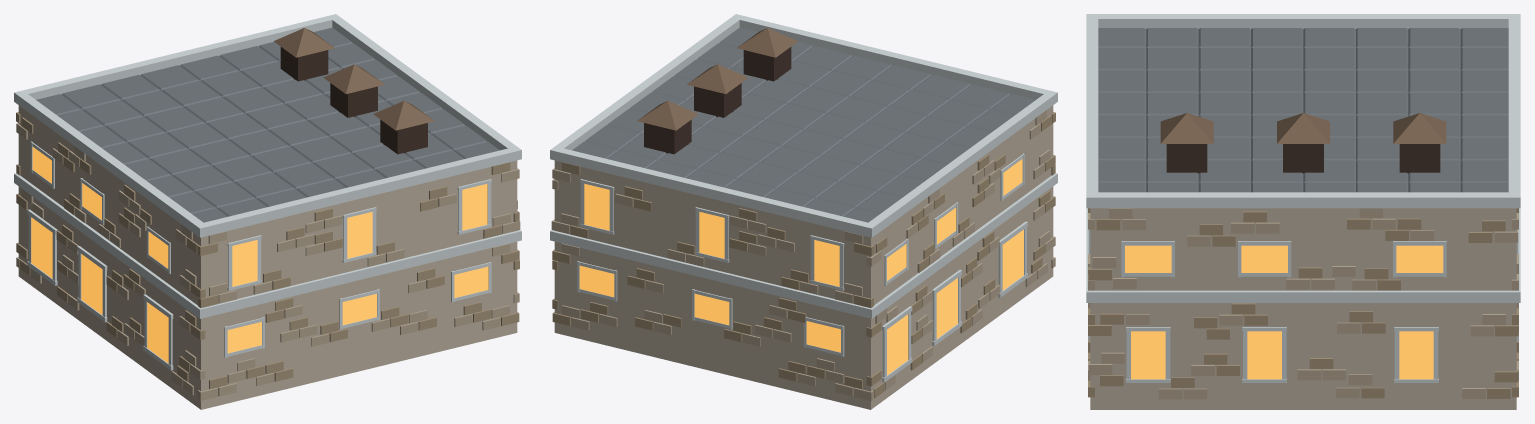
Rendered from SM_House_15_B.fbx.
3 renders of one model, left to right at view 1: azimuth 30°, elevation 25°; view 2: azimuth 150°, elevation 25°; view 3: azimuth 270°, elevation 25°, orthographic. The views are drawn at different scales.
Parts seen in each view (by area): view 1: SM_House_15_B_LOD0; view 2: SM_House_15_B_LOD0; view 3: SM_House_15_B_LOD0.
Part boxes in pixels (x1,y1,x2,y2): SM_House_15_B_LOD0: (14, 14, 521, 409); SM_House_15_B_LOD0: (550, 14, 1057, 409); SM_House_15_B_LOD0: (1086, 14, 1520, 409).
Size of the model in its own units: 952 by 952 by 619.
1 material, 1 textured.
